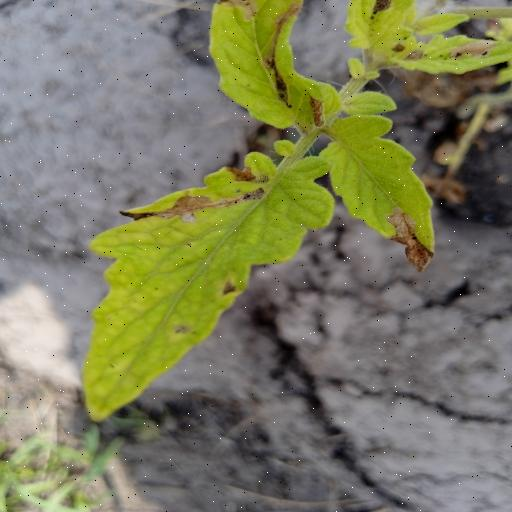Tomato_Brown_Spots: (74, 139, 340, 426)
